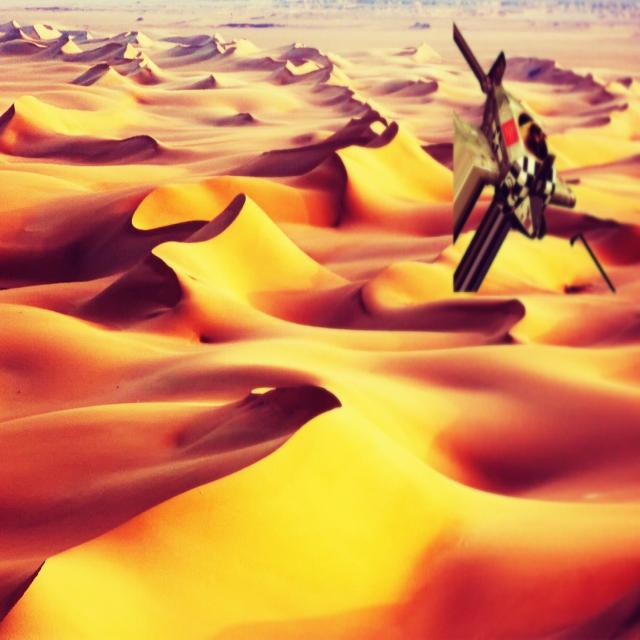airplane: (450, 20, 624, 295)
